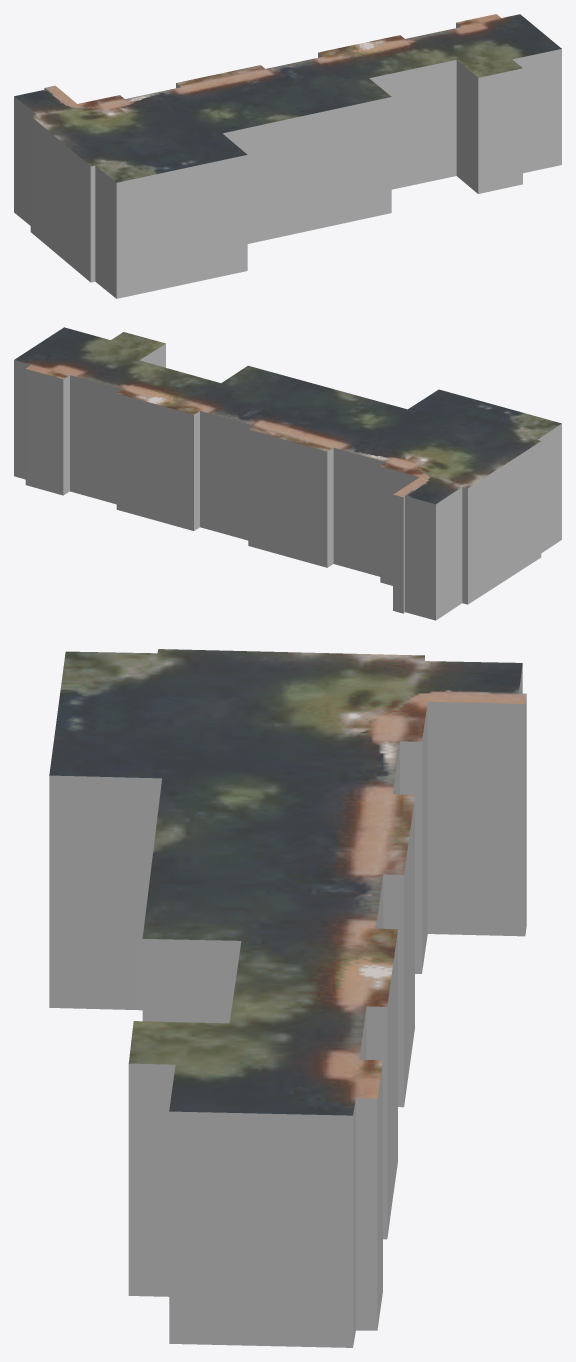
File: DEBW_0010007TvkB.gltf
3 renders of one model, top to bottom at view 1: azimuth 30°, elevation 25°; view 2: azimuth 150°, elevation 25°; view 3: azimuth 270°, elevation 25°, orthographic. The views are drawn at different scales.
Visible parts, largest first — view 1: Z_UP; view 2: Z_UP; view 3: Z_UP.
Boxes of the visible parts, <box> form: Z_UP: <box>14,14,561,298</box>; Z_UP: <box>14,327,561,620</box>; Z_UP: <box>49,649,526,1347</box>.
Size of the model in its own units: 56.83 by 13.19 by 24.57.
Materials: 2 (1 with a texture image).
